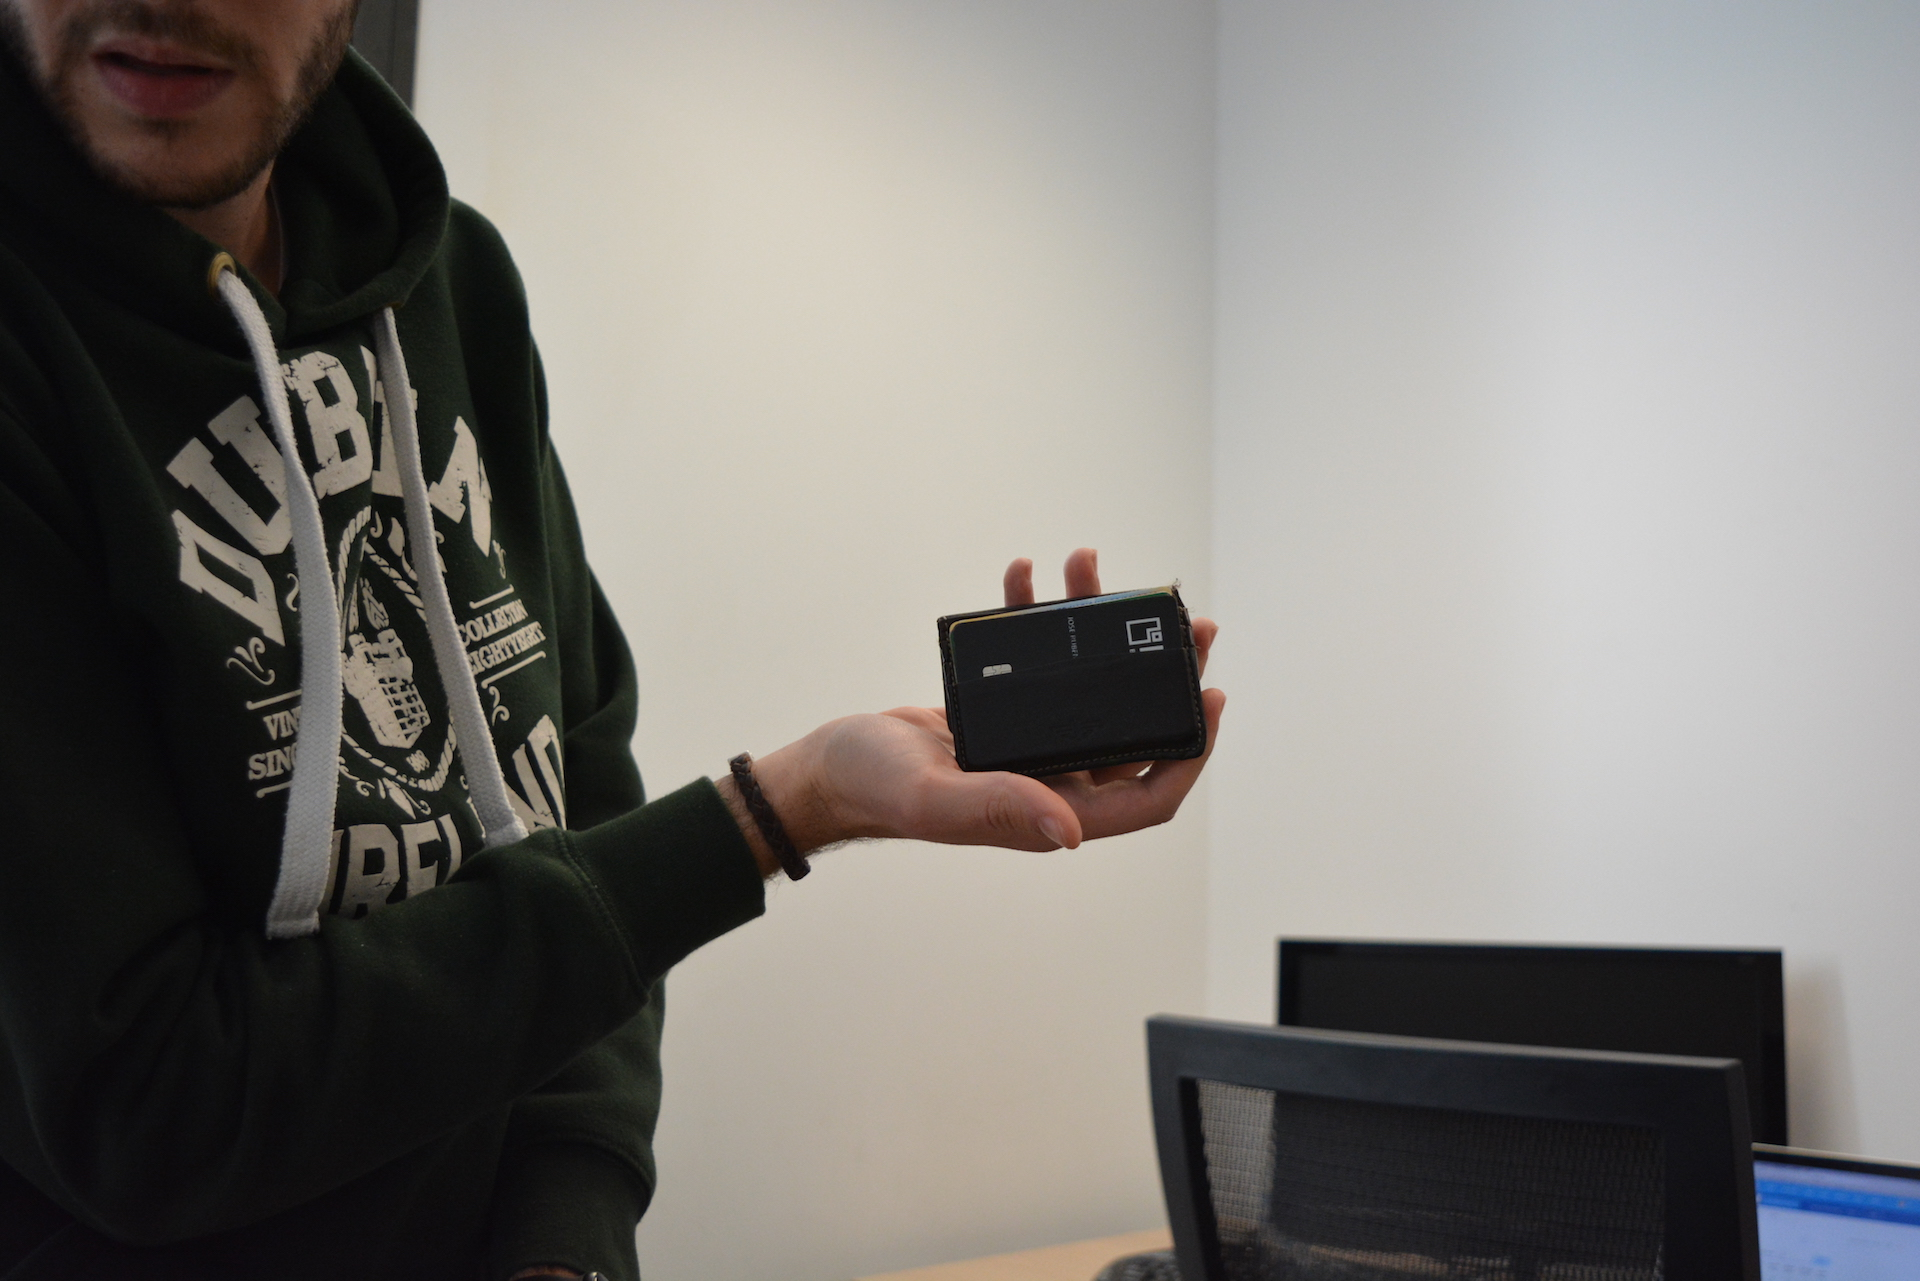monedero: (935, 582, 1209, 782)
